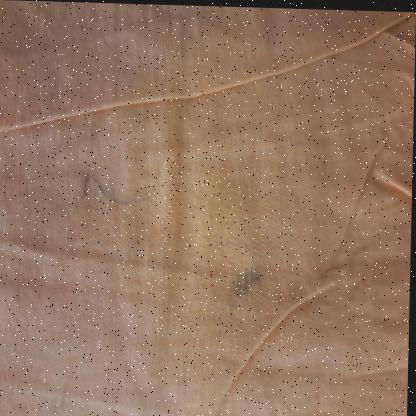spot: (77, 160, 154, 212), (220, 258, 268, 311)
